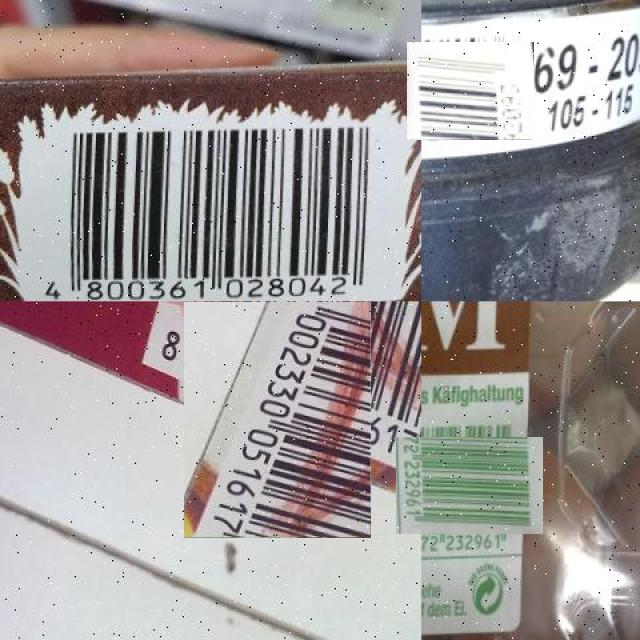Barcode: (35, 126, 385, 302), (159, 276, 396, 513), (409, 424, 531, 547), (414, 34, 526, 147)
